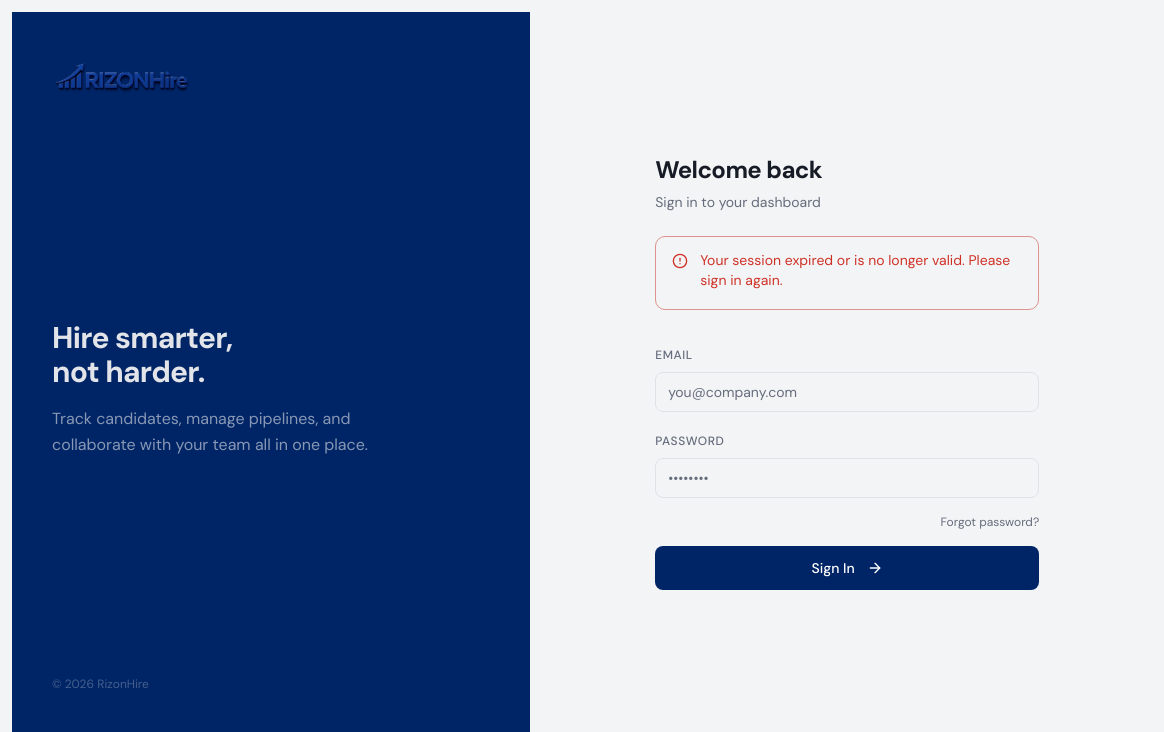
it: Auth session recovery › clears the expiry notice after a successful sign-in
Type "user@example.com" into the field labelled "Email" at point(847, 392), box top-left (655, 372), bottom-right (1039, 412)
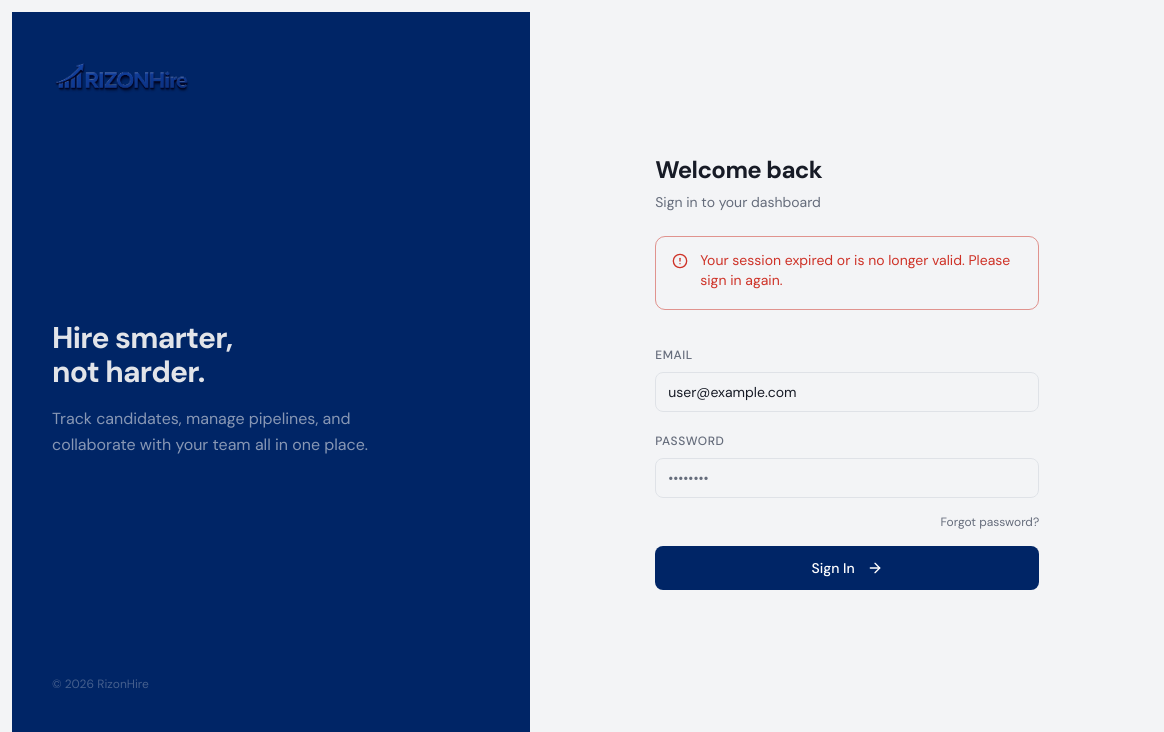
Type "password123" into the password field labelled "Password" at point(847, 478), box top-left (655, 458), bottom-right (1039, 498)
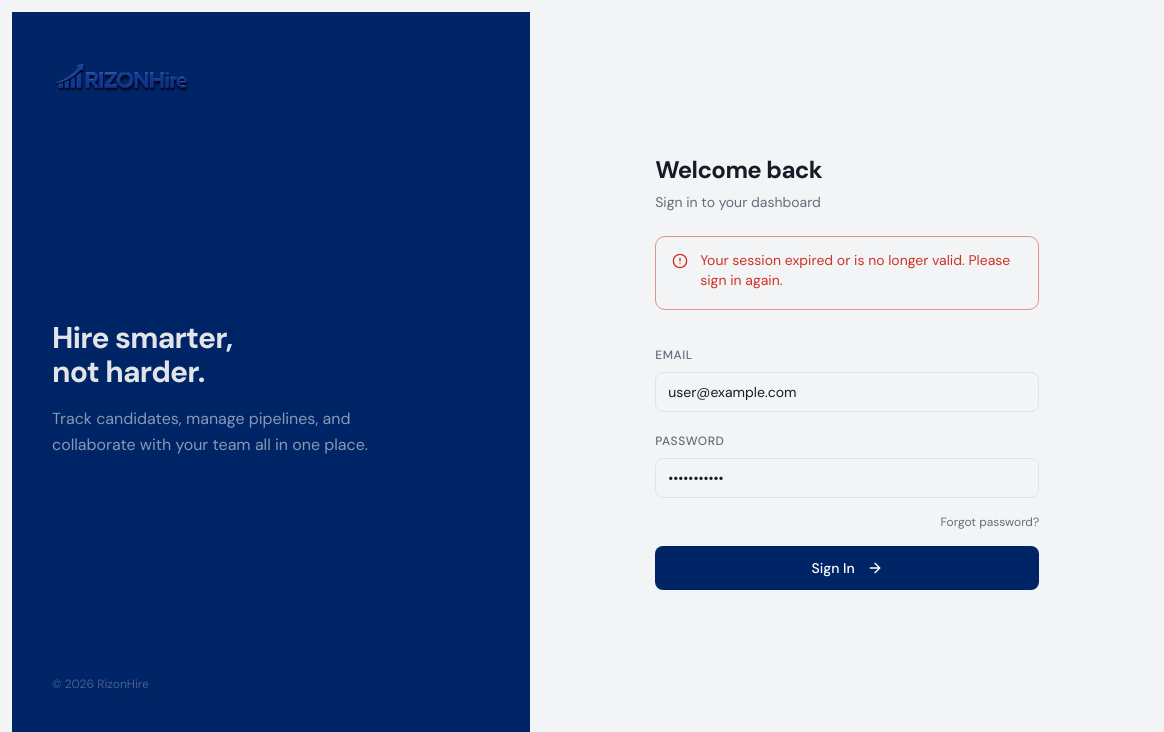
Click the button "Sign In" at point(847, 568), box top-left (655, 546), bottom-right (1039, 590)
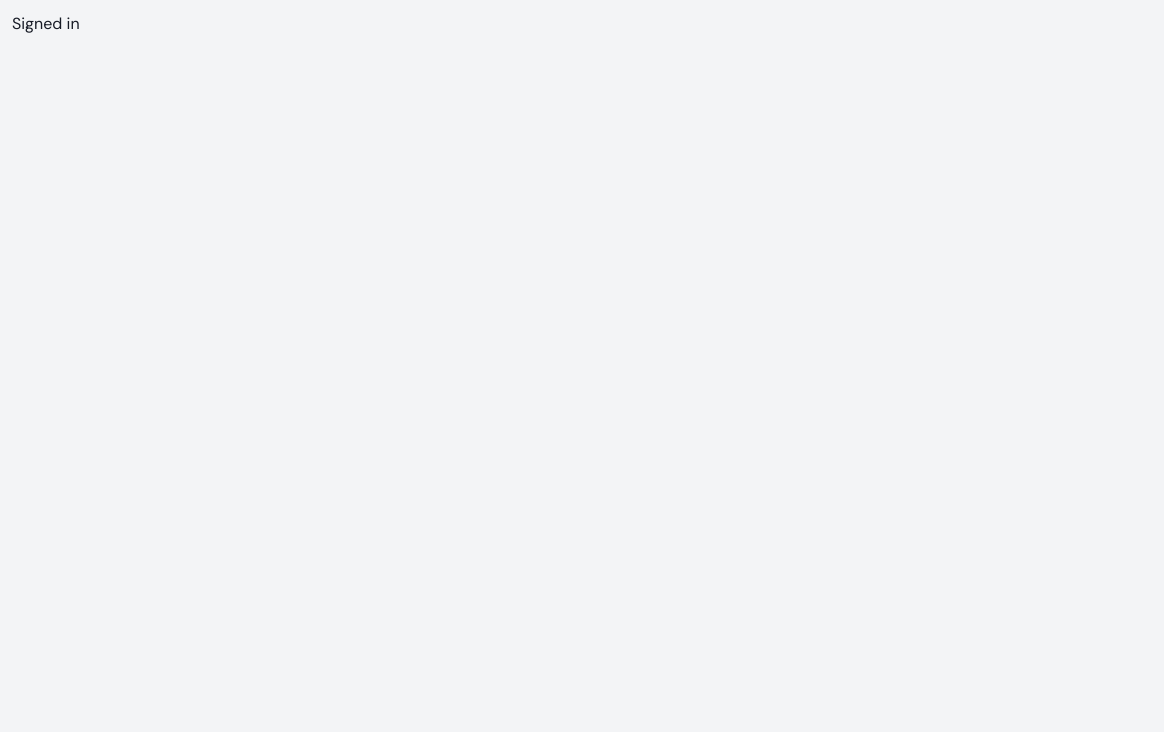
Check: the text "Signed in" is shown, box top-left (12, 13), bottom-right (80, 34)
